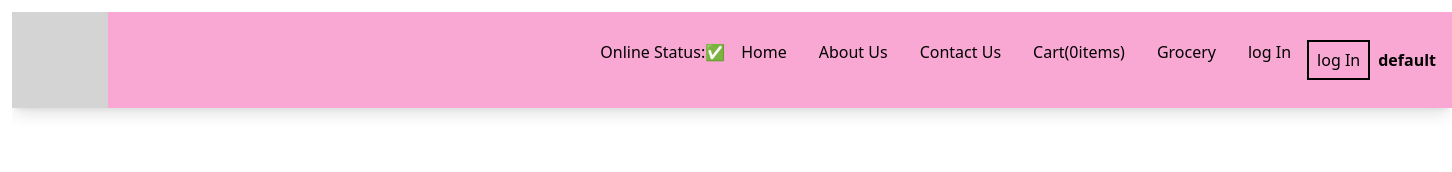
Test: heading component › should change login button to logOut when it is clicked
The width and height of the screenshot is (1452, 172).
Step 1. Click the button "log In" → (1339, 60), box [1307, 40, 1370, 80]
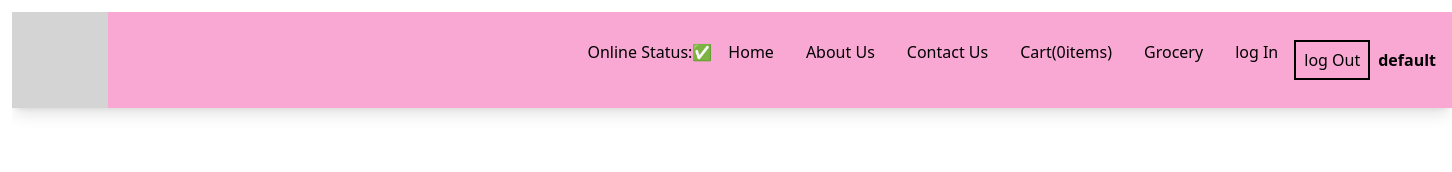
Result: the button "log Out" is shown at [1294, 40, 1370, 80]
